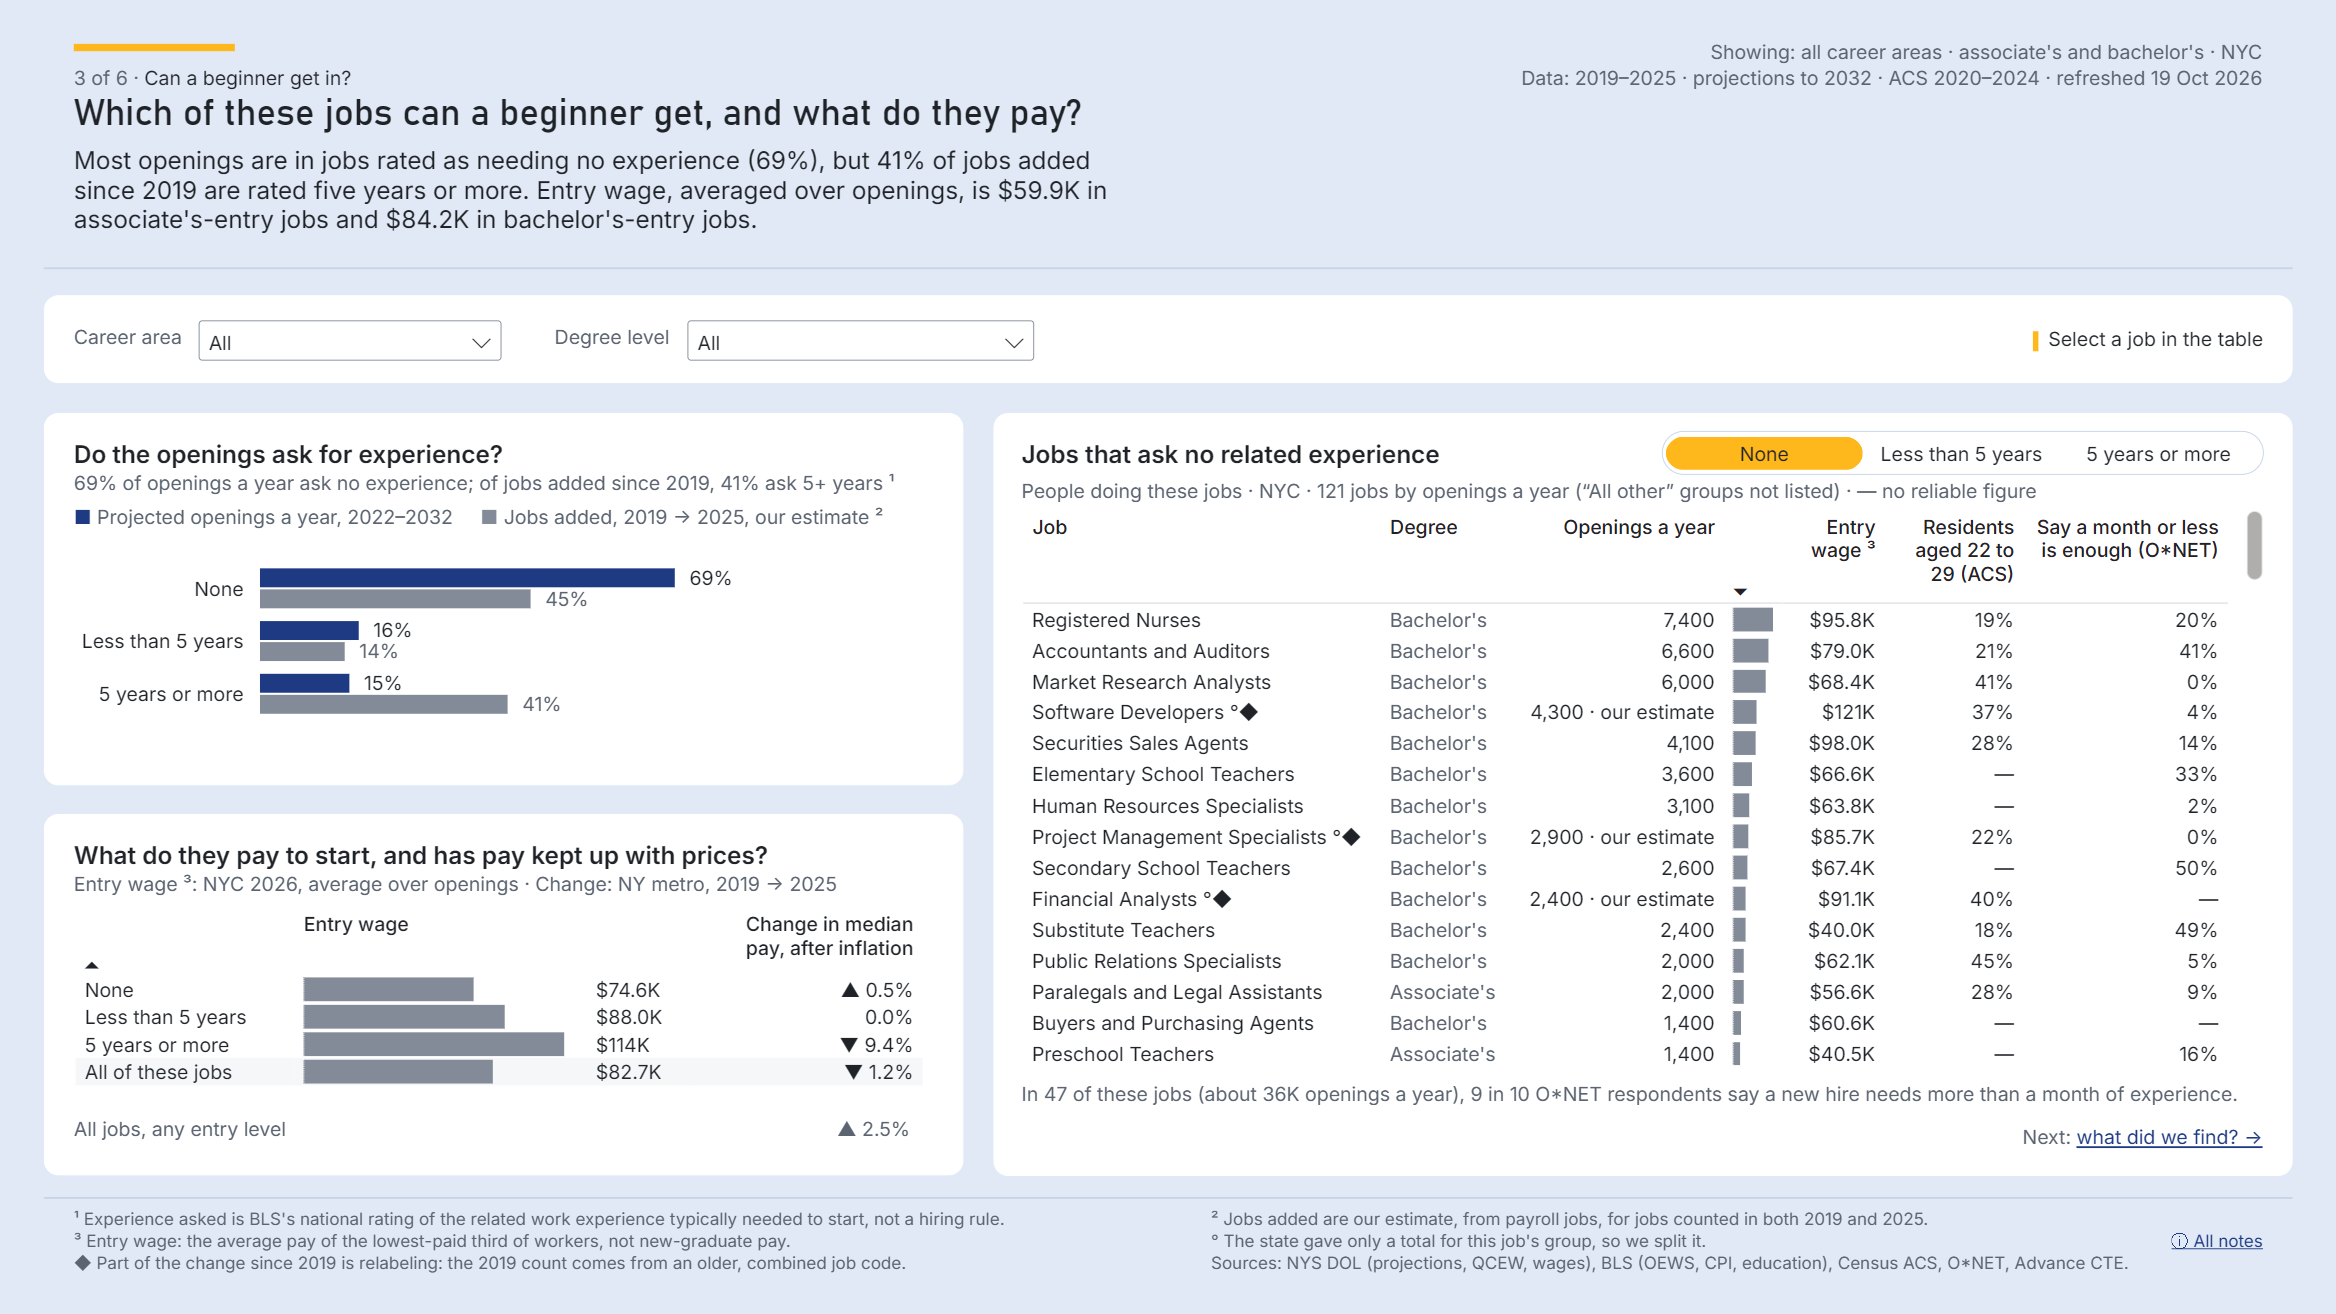

Layout of this report page (visuals, bound fields, positions):
{"tool":"powerbi","page":{"name":"Getting in","canvas":[1280,720],"ordinal":2},"visuals":[{"type":"shape","box":[40,24,88,4],"z":2000},{"type":"textbox","box":[40,36,576,14],"z":3000},{"type":"textbox","box":[40,50,576,28],"z":4000},{"type":"shape","box":[40,80,576,52],"z":5000},{"type":"shape","box":[664,22,576,14],"z":6000},{"type":"shape","box":[664,36,576,14],"z":7000},{"type":"shape","box":[24,146,1232,1],"z":8000},{"type":"shape","box":[24,162,1232,48],"z":9000},{"type":"textbox","box":[40,178,64,16],"z":10000},{"type":"slicer","fields":{"Values":["dim_cluster.cluster_name"]},"box":[104,170,176,32],"z":11000},{"type":"textbox","box":[304,178,68,16],"z":12000},{"type":"slicer","fields":{"Values":["dim_degree_level.degree_level"]},"box":[372,170,200,32],"z":13000},{"type":"actionButton","box":[1080,170,160,32],"z":14000},{"type":"image","box":[1114,181,3,11],"z":15000},{"type":"shape","box":[24,226,504,204],"z":16000},{"type":"textbox","box":[40,240,472,18],"z":17000},{"type":"shape","box":[40,258,472,16],"z":18000},{"type":"textbox","box":[40,276,472,16],"z":19000},{"type":"shape","box":[40,406,472,16],"z":20000},{"type":"clusteredBarChart","fields":{"Category":["Experience band.Experience"],"Y":["_Measures.GI openings share","_Measures.GI added share"]},"box":[40,292,472,112],"z":21000},{"type":"shape","box":[24,446,504,198],"z":22000},{"type":"textbox","box":[40,460,472,18],"z":23000},{"type":"textbox","box":[40,478,472,16],"z":24000},{"type":"tableEx","fields":{"Values":["Experience band.Experience","_Measures.GI starting pay","_Measures.GI starting pay text","_Measures.GI real pay change text"]},"box":[40,498,472,108],"z":25000},{"type":"textbox","box":[40,612,240,16],"z":26000},{"type":"shape","box":[336,612,163,16],"z":27000},{"type":"shape","box":[544,226,712,418],"z":28000},{"type":"shape","box":[560,240,348,18],"z":29000},{"type":"shape","box":[910,236,330,24],"z":30000},{"type":"advancedSlicerVisual","fields":{"Values":["Experience band.Experience"]},"box":[913,239,324,18],"z":31000},{"type":"shape","box":[560,262,680,16],"z":32000},{"type":"shape","box":[560,312,680,16],"z":33000},{"type":"tableEx","fields":{"Values":["dim_job.job_label","_Measures.GI job degree","_Measures.GI job openings text","_Measures.GI job openings","_Measures.GI job pay","_Measures.GI job young","_Measures.GI job newcomer"]},"box":[560,280,680,306],"z":34000},{"type":"shape","box":[560,592,680,16],"z":35000},{"type":"textbox","box":[560,616,680,16],"z":36000},{"type":"actionButton","box":[1124,616,116,16],"z":37000},{"type":"shape","box":[40,662,576,12],"z":38000},{"type":"shape","box":[664,662,576,12],"z":39000},{"type":"shape","box":[40,674,576,12],"z":40000},{"type":"shape","box":[664,674,504,12],"z":41000},{"type":"shape","box":[40,686,576,12],"z":42000},{"type":"shape","box":[664,686,576,12],"z":43000},{"type":"shape","box":[24,656,1232,1],"z":44000},{"type":"actionButton","box":[1184,674,56,14],"z":45000}]}

Visuals, with their boxes in screenshot pixels (x1, y1, x2, y2), scaled from the page's 1280x720 canvas onto the 2336x1314 screenshot:
shape: {"left": 73, "top": 44, "right": 234, "bottom": 51}
textbox: {"left": 73, "top": 66, "right": 1124, "bottom": 91}
textbox: {"left": 73, "top": 91, "right": 1124, "bottom": 142}
shape: {"left": 73, "top": 146, "right": 1124, "bottom": 241}
shape: {"left": 1212, "top": 40, "right": 2263, "bottom": 66}
shape: {"left": 1212, "top": 66, "right": 2263, "bottom": 91}
shape: {"left": 44, "top": 266, "right": 2292, "bottom": 268}
shape: {"left": 44, "top": 296, "right": 2292, "bottom": 383}
textbox: {"left": 73, "top": 325, "right": 190, "bottom": 354}
slicer - dim_cluster.cluster_name: {"left": 190, "top": 310, "right": 511, "bottom": 369}
textbox: {"left": 555, "top": 325, "right": 679, "bottom": 354}
slicer - dim_degree_level.degree_level: {"left": 679, "top": 310, "right": 1044, "bottom": 369}
actionButton: {"left": 1971, "top": 310, "right": 2263, "bottom": 369}
image: {"left": 2033, "top": 330, "right": 2039, "bottom": 350}
shape: {"left": 44, "top": 412, "right": 964, "bottom": 785}
textbox: {"left": 73, "top": 438, "right": 934, "bottom": 471}
shape: {"left": 73, "top": 471, "right": 934, "bottom": 500}
textbox: {"left": 73, "top": 504, "right": 934, "bottom": 533}
shape: {"left": 73, "top": 741, "right": 934, "bottom": 770}
clusteredBarChart - Experience band.Experience x _Measures.GI openings share: {"left": 73, "top": 533, "right": 934, "bottom": 737}
shape: {"left": 44, "top": 814, "right": 964, "bottom": 1175}
textbox: {"left": 73, "top": 840, "right": 934, "bottom": 872}
textbox: {"left": 73, "top": 872, "right": 934, "bottom": 902}
tableEx - Experience band.Experience x _Measures.GI starting pay: {"left": 73, "top": 909, "right": 934, "bottom": 1106}
textbox: {"left": 73, "top": 1117, "right": 511, "bottom": 1146}
shape: {"left": 613, "top": 1117, "right": 911, "bottom": 1146}
shape: {"left": 993, "top": 412, "right": 2292, "bottom": 1175}
shape: {"left": 1022, "top": 438, "right": 1657, "bottom": 471}
shape: {"left": 1661, "top": 431, "right": 2263, "bottom": 474}
advancedSlicerVisual - Experience band.Experience: {"left": 1666, "top": 436, "right": 2258, "bottom": 469}
shape: {"left": 1022, "top": 478, "right": 2263, "bottom": 507}
shape: {"left": 1022, "top": 569, "right": 2263, "bottom": 599}
tableEx - dim_job.job_label x _Measures.GI job degree: {"left": 1022, "top": 511, "right": 2263, "bottom": 1069}
shape: {"left": 1022, "top": 1080, "right": 2263, "bottom": 1110}
textbox: {"left": 1022, "top": 1124, "right": 2263, "bottom": 1153}
actionButton: {"left": 2051, "top": 1124, "right": 2263, "bottom": 1153}
shape: {"left": 73, "top": 1208, "right": 1124, "bottom": 1230}
shape: {"left": 1212, "top": 1208, "right": 2263, "bottom": 1230}
shape: {"left": 73, "top": 1230, "right": 1124, "bottom": 1252}
shape: {"left": 1212, "top": 1230, "right": 2132, "bottom": 1252}
shape: {"left": 73, "top": 1252, "right": 1124, "bottom": 1274}
shape: {"left": 1212, "top": 1252, "right": 2263, "bottom": 1274}
shape: {"left": 44, "top": 1197, "right": 2292, "bottom": 1199}
actionButton: {"left": 2161, "top": 1230, "right": 2263, "bottom": 1256}
